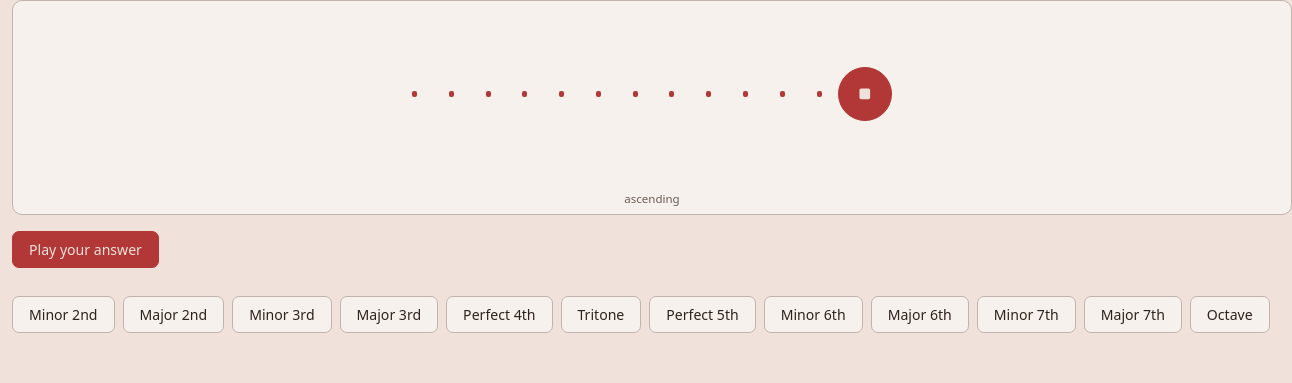
Scenario: comparing a wrong answer with the right one › leaves the chips that mean nothing unpressable
Click the button "Minor 2nd": x=63, y=314 [12,296,114,333]
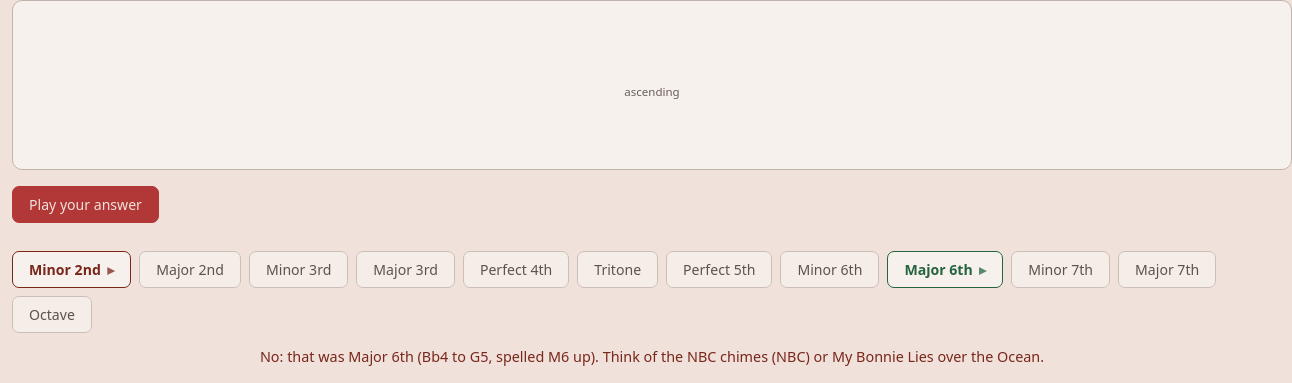
expect the button "Major 2nd" is disabled: met, box [139,251,241,288]
expect the button "Minor 3rd" is disabled: met, box [249,251,348,288]
expect the button "Major 3rd" is disabled: met, box [356,251,455,288]
